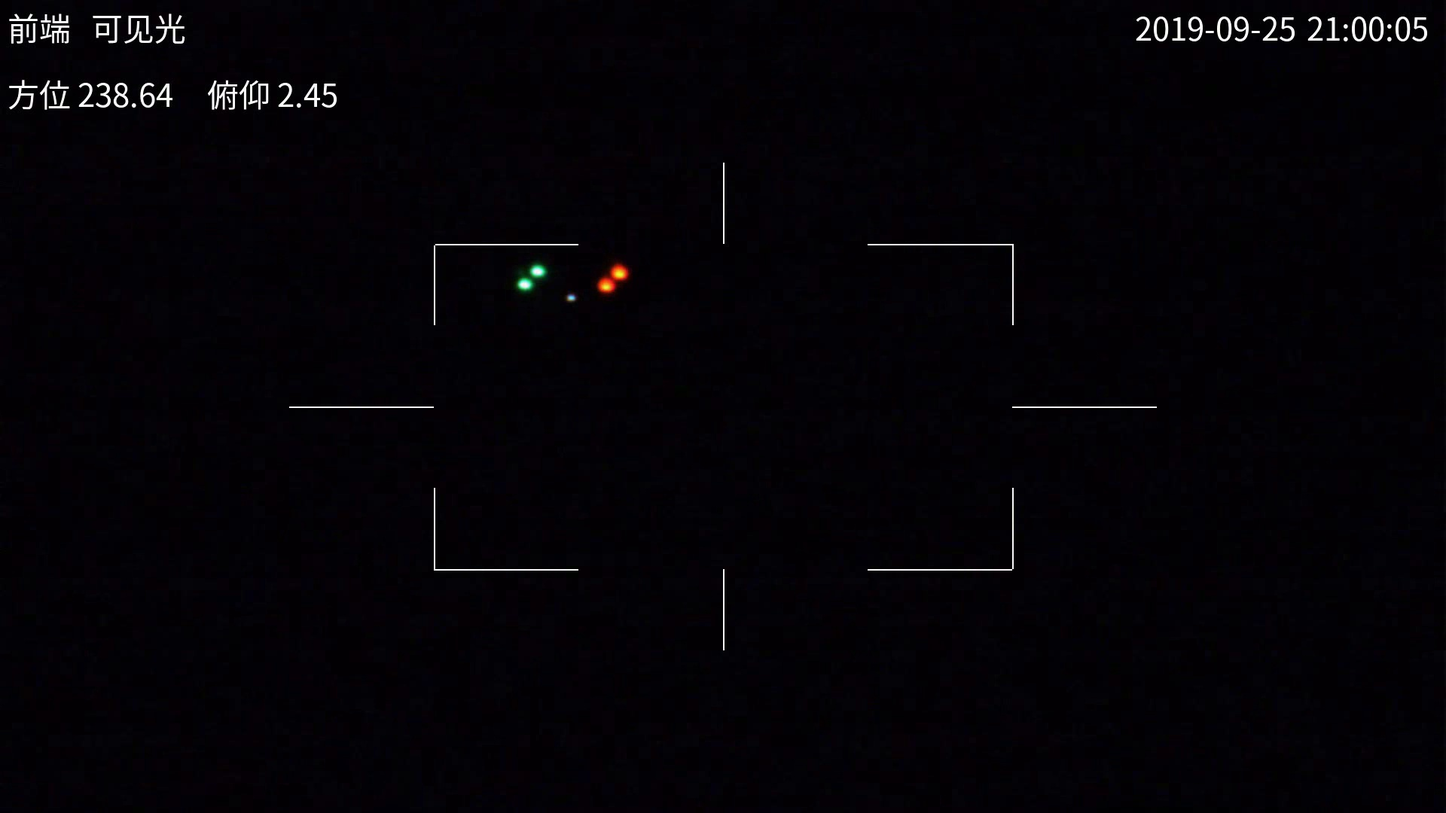drone: (514, 260, 629, 301)
